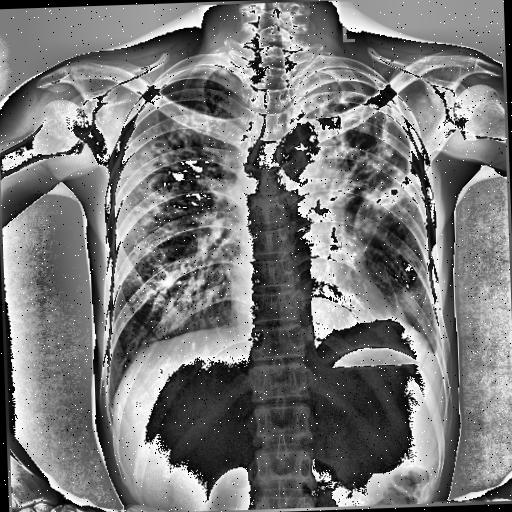1- Atelectasis: (308, 68, 424, 266), (290, 66, 400, 111)
10- Pleural effusion: (428, 338, 446, 364)
11- Pleural thickening: (381, 263, 406, 331), (174, 64, 230, 75), (428, 338, 446, 364)
13- Pulmonary fibrosis: (123, 107, 247, 337), (308, 68, 424, 266), (305, 68, 424, 255), (114, 124, 221, 286), (319, 96, 417, 248), (384, 280, 438, 348)
6- Infiltration: (123, 107, 247, 337), (305, 68, 424, 255), (114, 124, 221, 286), (122, 106, 232, 246), (319, 96, 417, 248), (384, 280, 438, 348)
7- Lung Opacity: (319, 96, 417, 248), (148, 278, 202, 337)
9- Other lesion: (390, 284, 404, 320)
